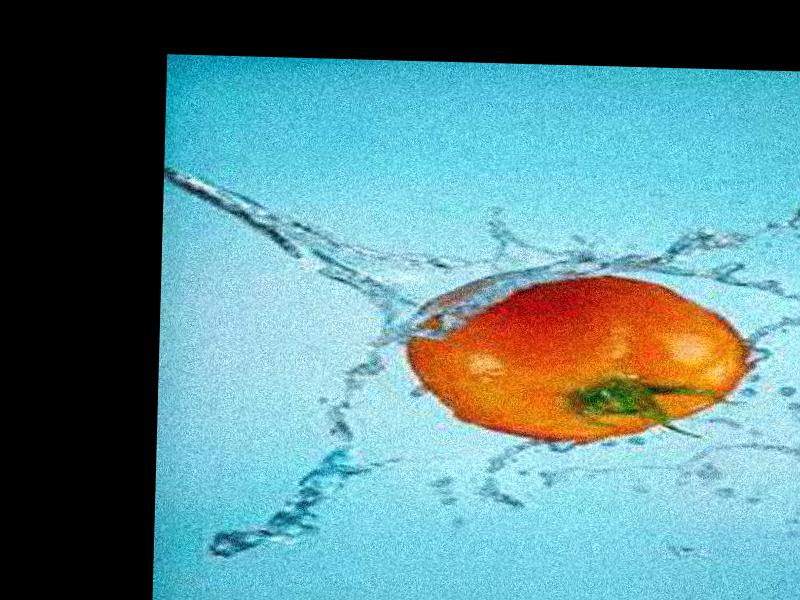Tomato: (405, 267, 753, 444)
